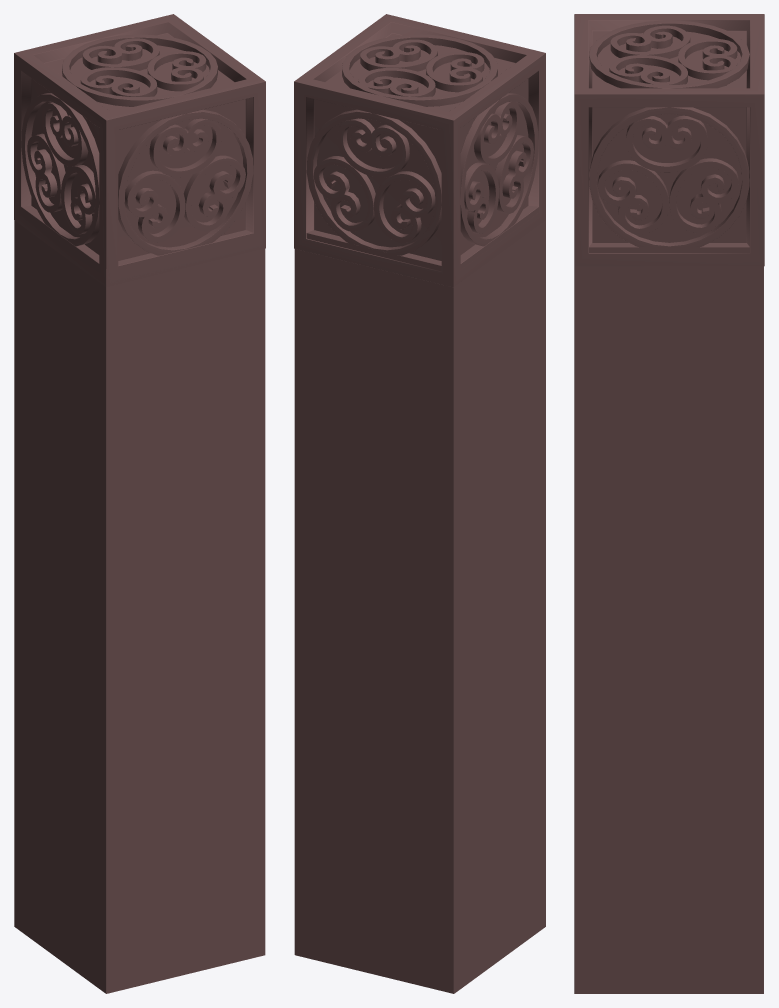
Rendered from Puzzle_cubes.fbx.
The picture shows the model from 3 angles, left to right: view 1: azimuth 30°, elevation 25°; view 2: azimuth 150°, elevation 25°; view 3: azimuth 270°, elevation 25°; orthographic projection. The views are drawn at different scales.
Visible parts, largest first — view 1: cube_puzzle_tall, cube_puzzle, cube_puzzle_plate; view 2: cube_puzzle_tall, cube_puzzle, cube_puzzle_plate; view 3: cube_puzzle_tall, cube_puzzle, cube_puzzle_plate.
Boxes of the visible parts, <box> form: cube_puzzle_tall: <box>14,220,265,993</box>; cube_puzzle: <box>14,14,265,286</box>; cube_puzzle_plate: <box>21,205,255,287</box>; cube_puzzle_tall: <box>294,220,545,993</box>; cube_puzzle: <box>294,14,545,287</box>; cube_puzzle_plate: <box>306,206,538,271</box>; cube_puzzle_tall: <box>574,266,763,993</box>; cube_puzzle: <box>574,14,764,266</box>; cube_puzzle_plate: <box>589,243,749,252</box>.
Size of the model in its own units: 249 by 1300 by 249.
